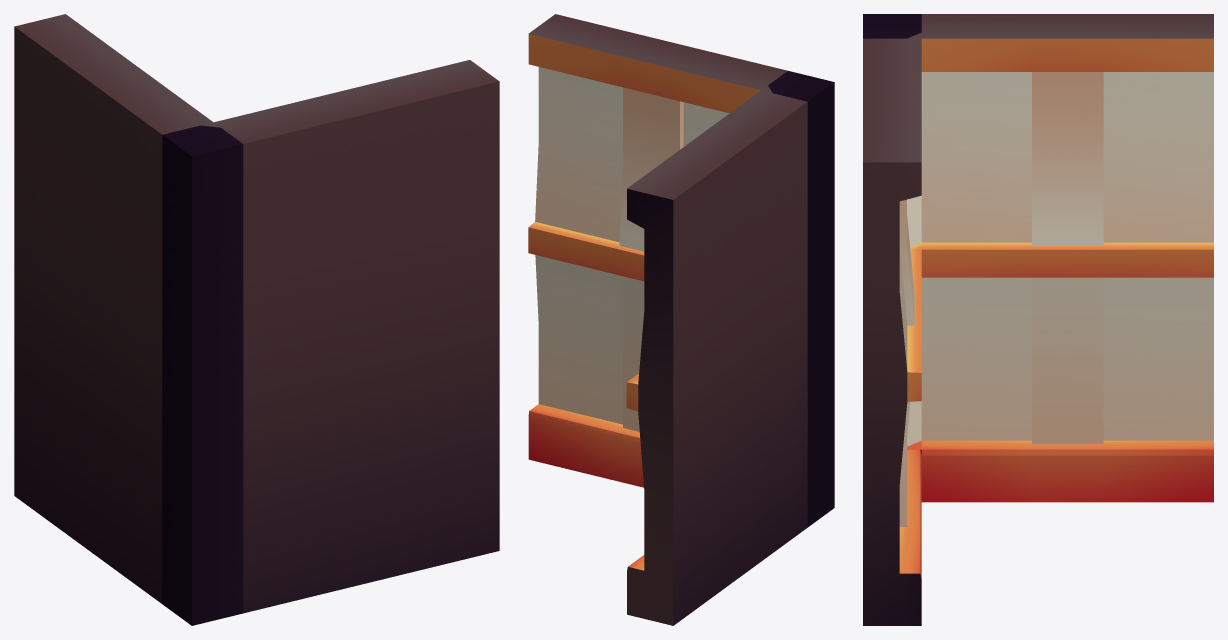
Rendered from muur corner in.fbx.
3 views of the same model, side by side, from view 1: azimuth 30°, elevation 25°; view 2: azimuth 150°, elevation 25°; view 3: azimuth 270°, elevation 25° (orthographic). The views are drawn at different scales.
Visible parts, largest first — view 1: Cube.001; view 2: Cube.001; view 3: Cube.001.
Boxes of the visible parts, box(x1,y1,x2,y2) form: Cube.001: box(14, 14, 499, 625); Cube.001: box(528, 14, 834, 625); Cube.001: box(863, 14, 1213, 625).
Bounding box in the file's own units: 240 × 350 × 240.
